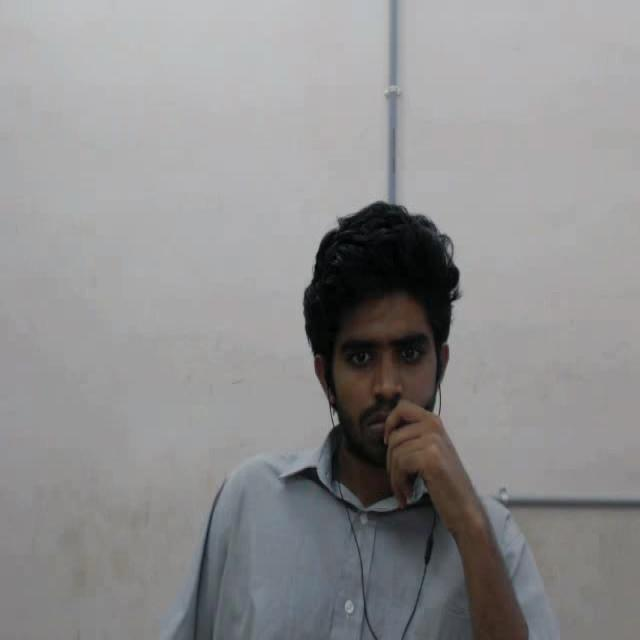Bored: (301, 180, 503, 496)
